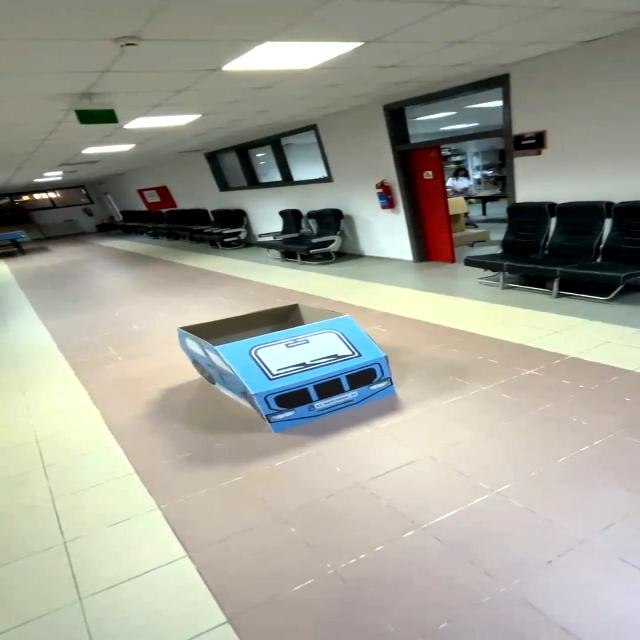blue_car: (158, 286, 420, 471)
